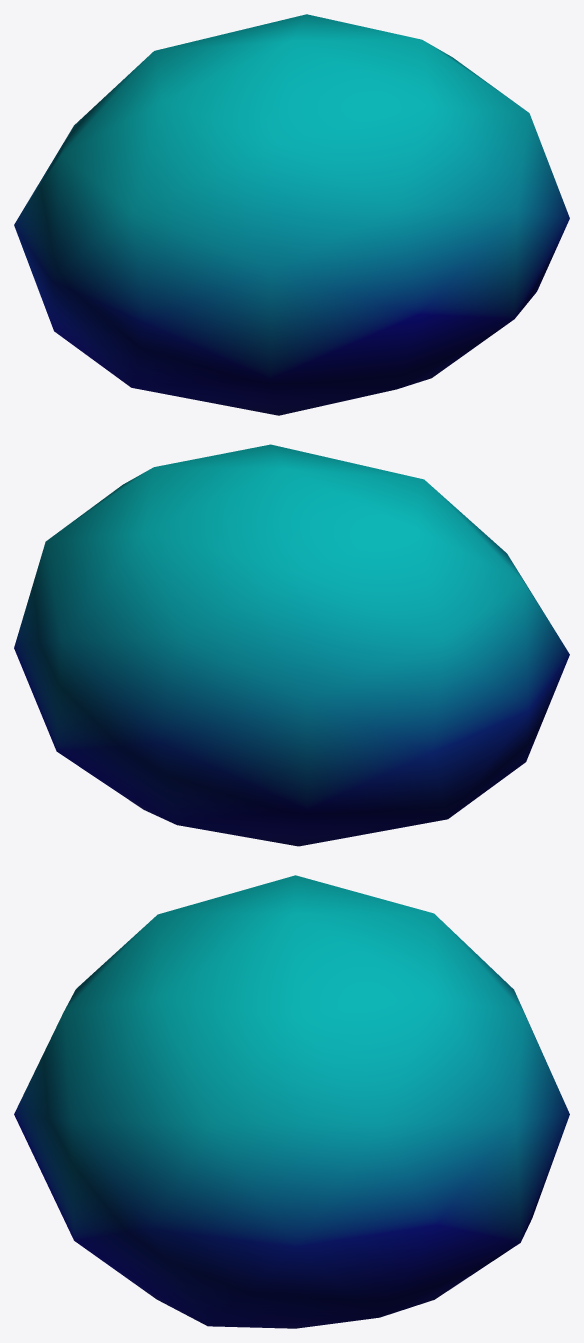
File: RockRounded_1_lod2.glb
3 views of the same model, one above another, from view 1: azimuth 30°, elevation 25°; view 2: azimuth 150°, elevation 25°; view 3: azimuth 270°, elevation 25° (orthographic). The views are drawn at different scales.
Visible parts, largest first — view 1: RockRounded_1_lod2; view 2: RockRounded_1_lod2; view 3: RockRounded_1_lod2.
Part boxes in pixels (x1,y1,x2,y2): RockRounded_1_lod2: (14, 14, 569, 415); RockRounded_1_lod2: (14, 444, 569, 846); RockRounded_1_lod2: (14, 875, 569, 1328).
Size of the model in its own units: 1.58 by 1.02 by 1.41.
